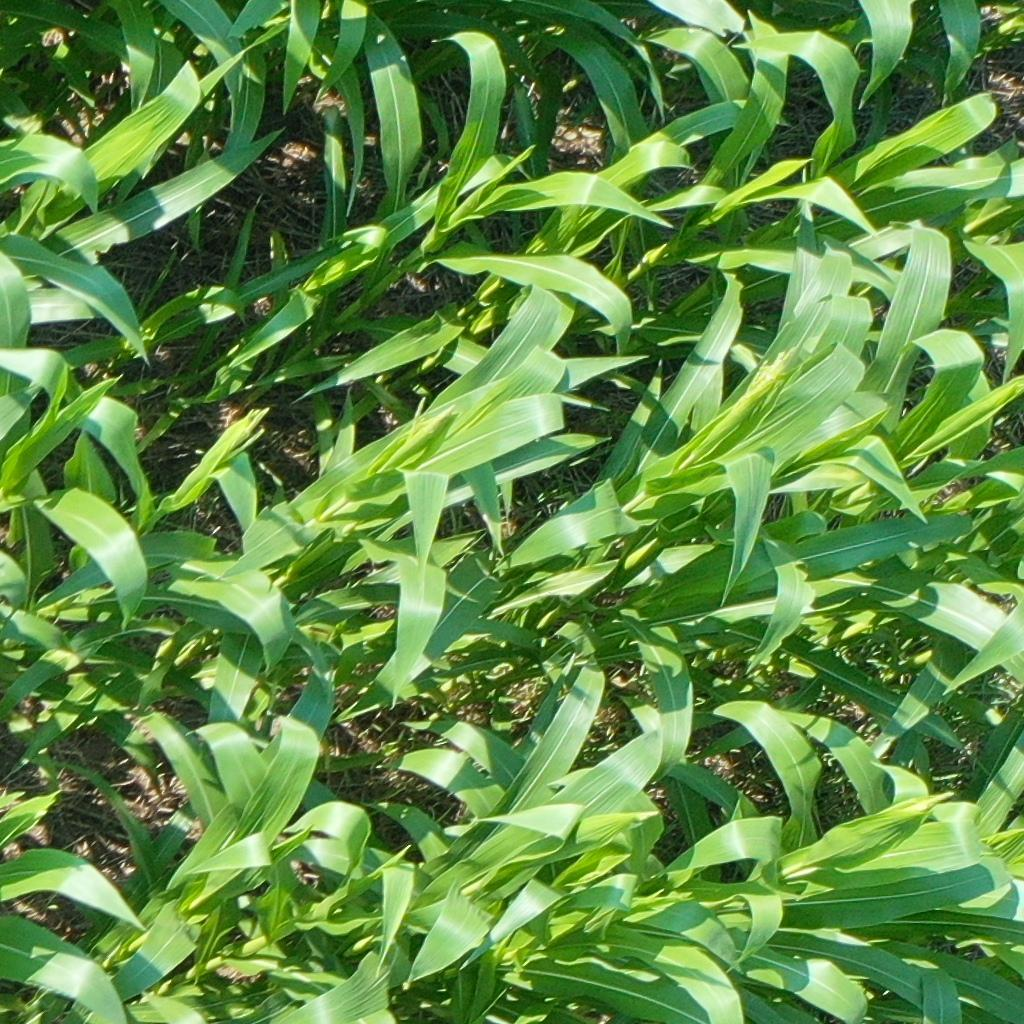Tassel: (212, 403, 277, 472), (744, 347, 795, 398), (405, 401, 449, 451)
